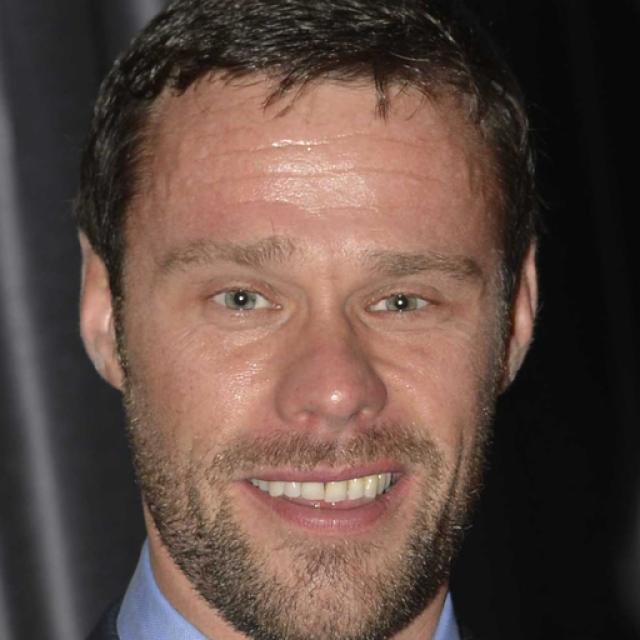happy: (121, 87, 508, 628)
